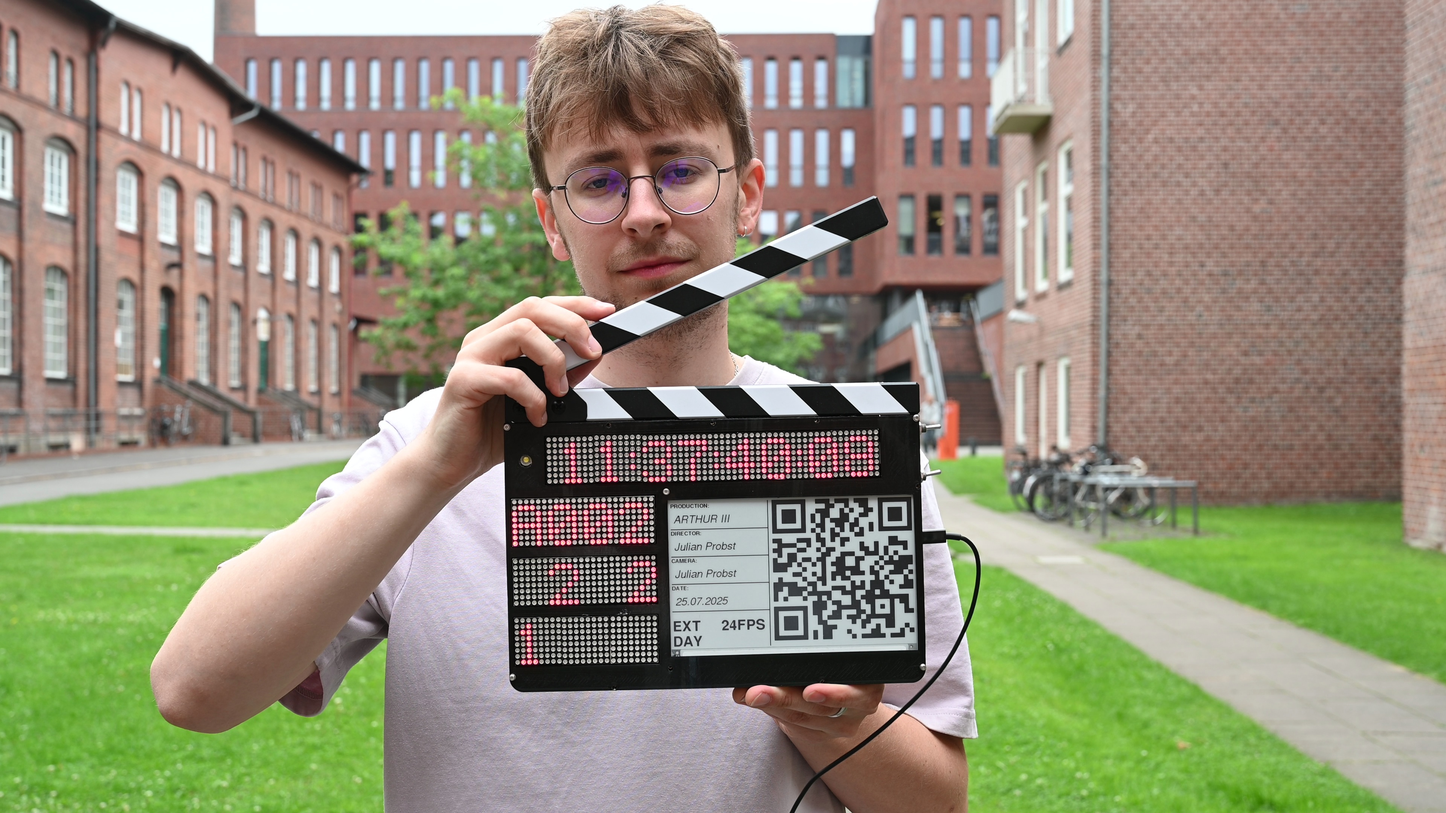ARC-SLATE: (499, 378, 929, 697)
